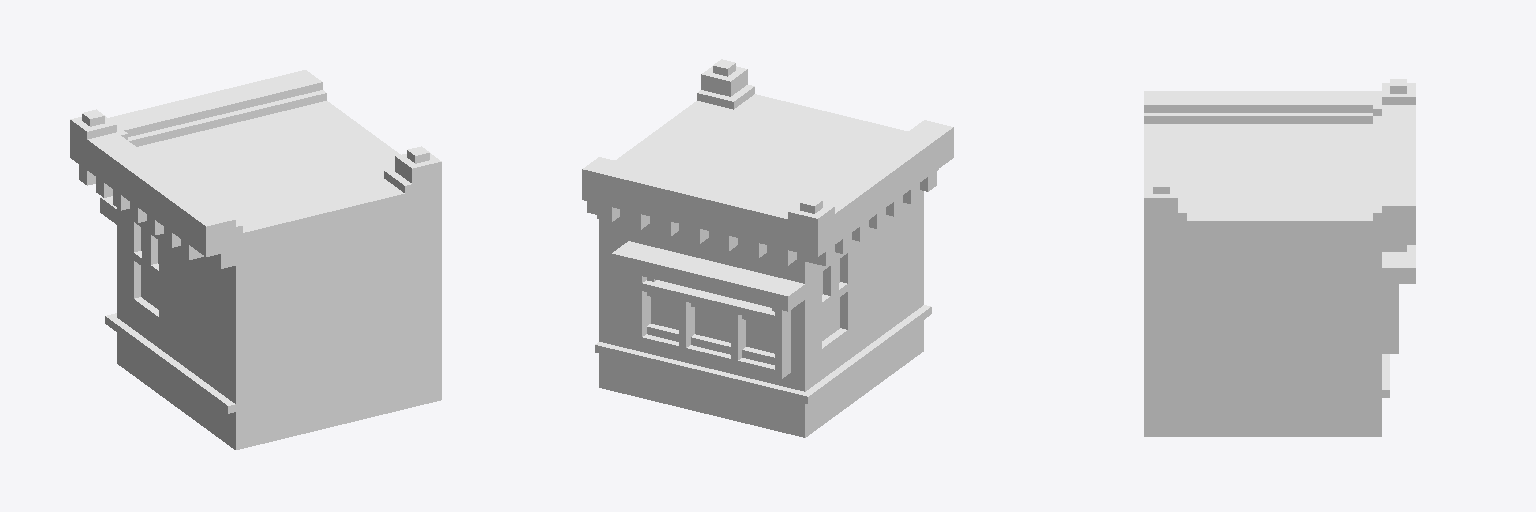
File: tile_1_right_nb_corner_90.obj
3 renders of one model, left to right at view 1: azimuth 30°, elevation 25°; view 2: azimuth 150°, elevation 25°; view 3: azimuth 270°, elevation 25°, orthographic.
Visible parts, largest first — view 1: object 1; view 2: object 1; view 3: object 1.
Part boxes in pixels (bbox=[...]): object 1: bbox=[70, 70, 441, 449]; object 1: bbox=[582, 59, 953, 437]; object 1: bbox=[1144, 79, 1415, 436].
Bounding box in the file's own units: 3.2 × 3.2 × 3.2.